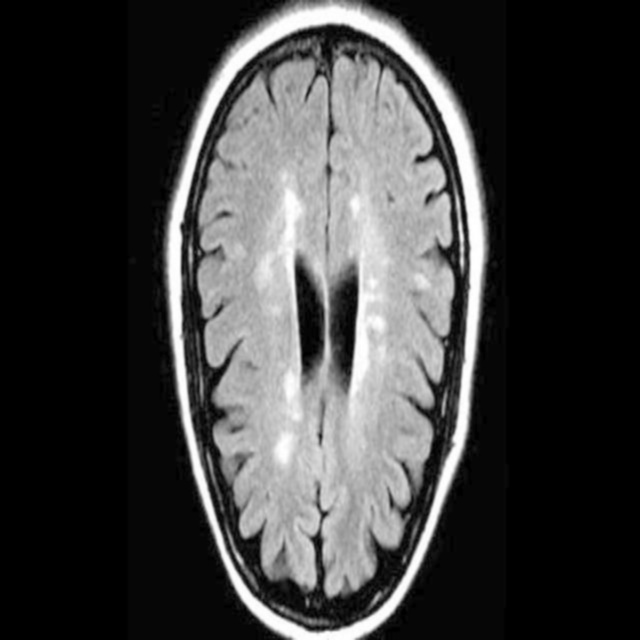glioma tumor: (220, 78, 416, 573)
